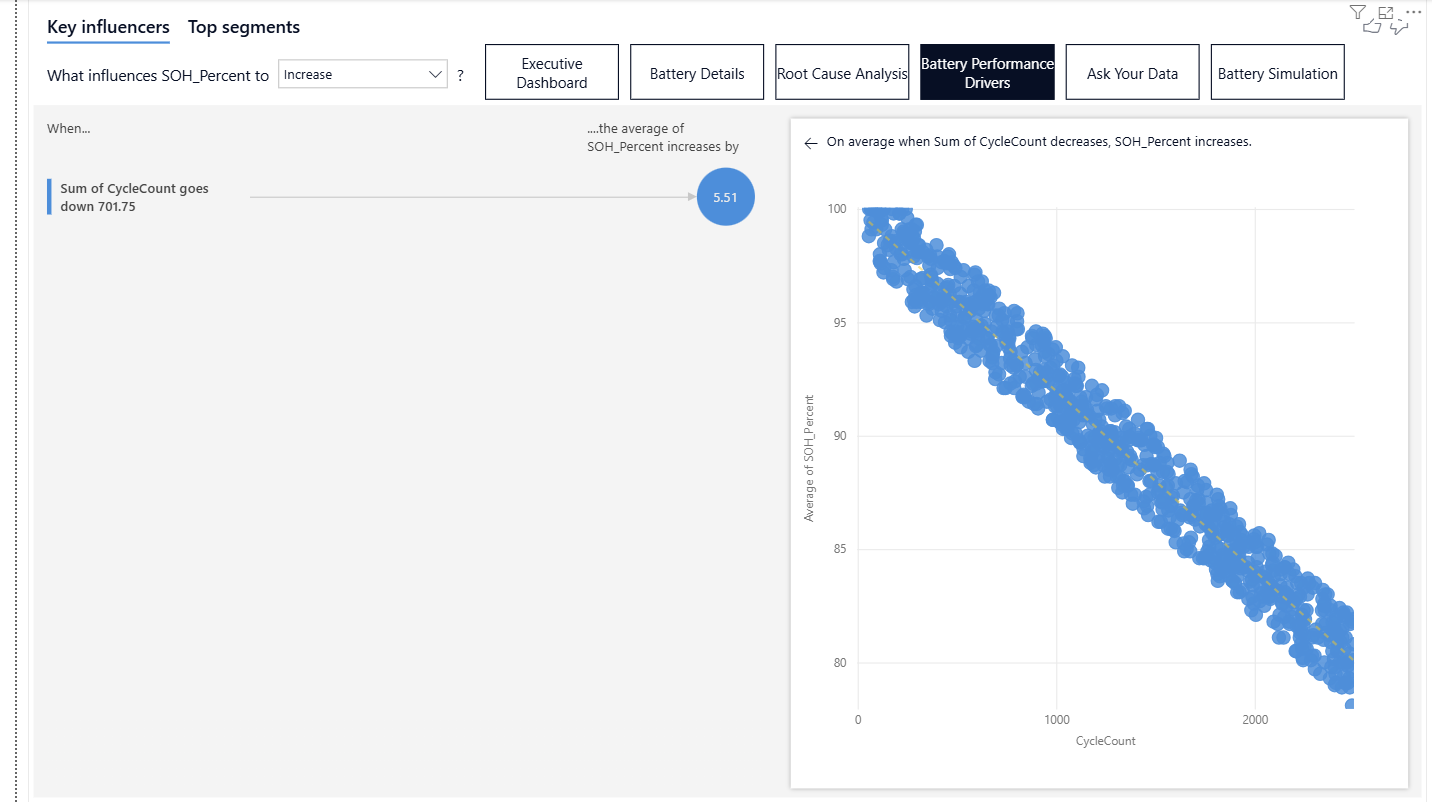

The dashboard page shown, as its layout file describes it:
{"tool":"powerbi","page":{"name":"Battery Performance Drivers","canvas":[1280,720],"ordinal":4},"visuals":[{"type":"keyDriversVisual","fields":{"Target":["Battery_Data.SOH_Percent"],"ExplainBy":["Sum(Battery_Data.Temperature_C)","Sum(Battery_Data.CycleCount)","Sum(Battery_Data.Voltage_V)","Sum(Battery_Data.Current_A)","Sum(Battery_Data.ChargeTime_hr)"]},"box":[9.7,0,1252.8,719.8],"z":0},{"type":"pageNavigator","box":[419.1,40.3,770.1,50.1],"z":1000}]}

Visuals, with their boxes on the page's 1280x720 design canvas (x1, y1, x2, y2). These are canvas units, not pixel positions in the 1432x802 screenshot, which may show the page scaled, cropped or inside an application window:
keyDriversVisual - Battery_Data.SOH_Percent x Sum(Battery_Data.Temperature_C): l=10, t=0, r=1262, b=720
pageNavigator: l=419, t=40, r=1189, b=90
